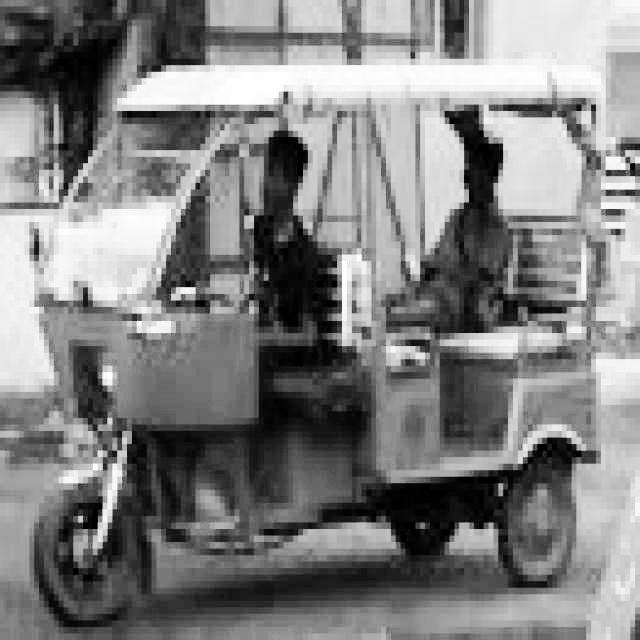Toto: (22, 55, 615, 608)
